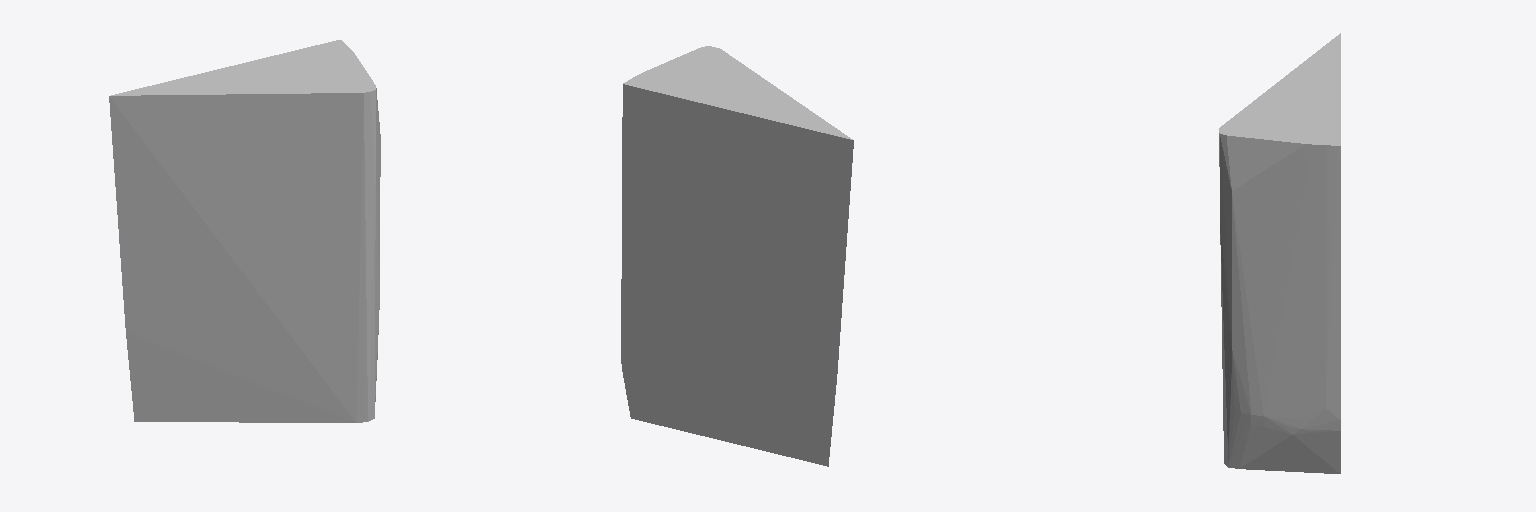
Rendered from box_long_brown_M_collision_8.obj.
3 views of the same model, side by side, from view 1: azimuth 30°, elevation 25°; view 2: azimuth 150°, elevation 25°; view 3: azimuth 270°, elevation 25° (orthographic).
Size of the model in its own units: 0.0282 by 0.0384 by 0.0128.